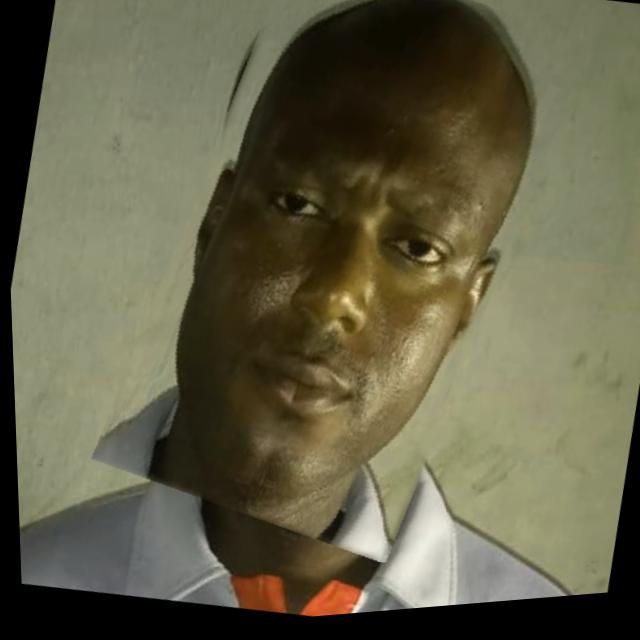sad: (91, 0, 583, 590)
